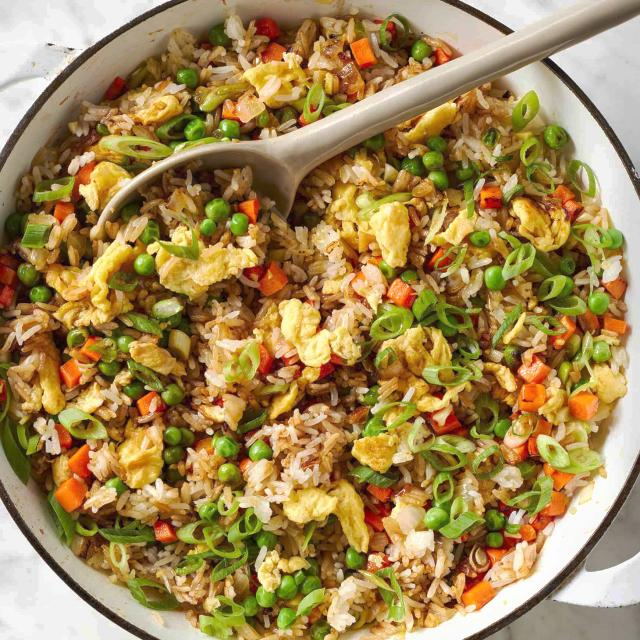Fried Rice: (2, 12, 628, 638)
